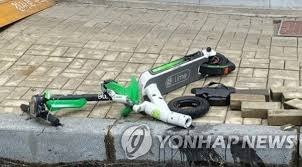fallin_kick: (18, 46, 235, 126)
